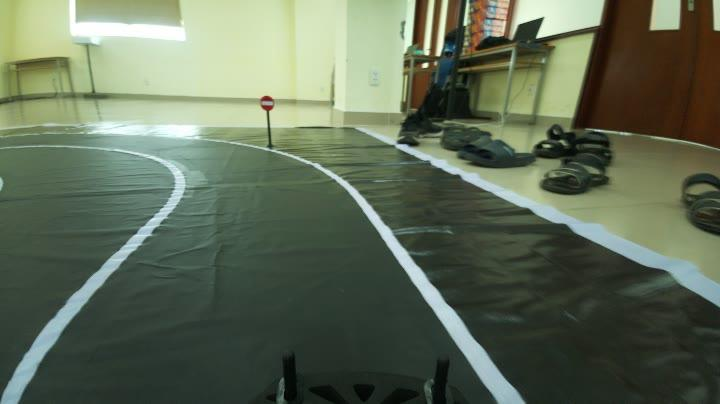no_entry: (255, 92, 278, 114)
